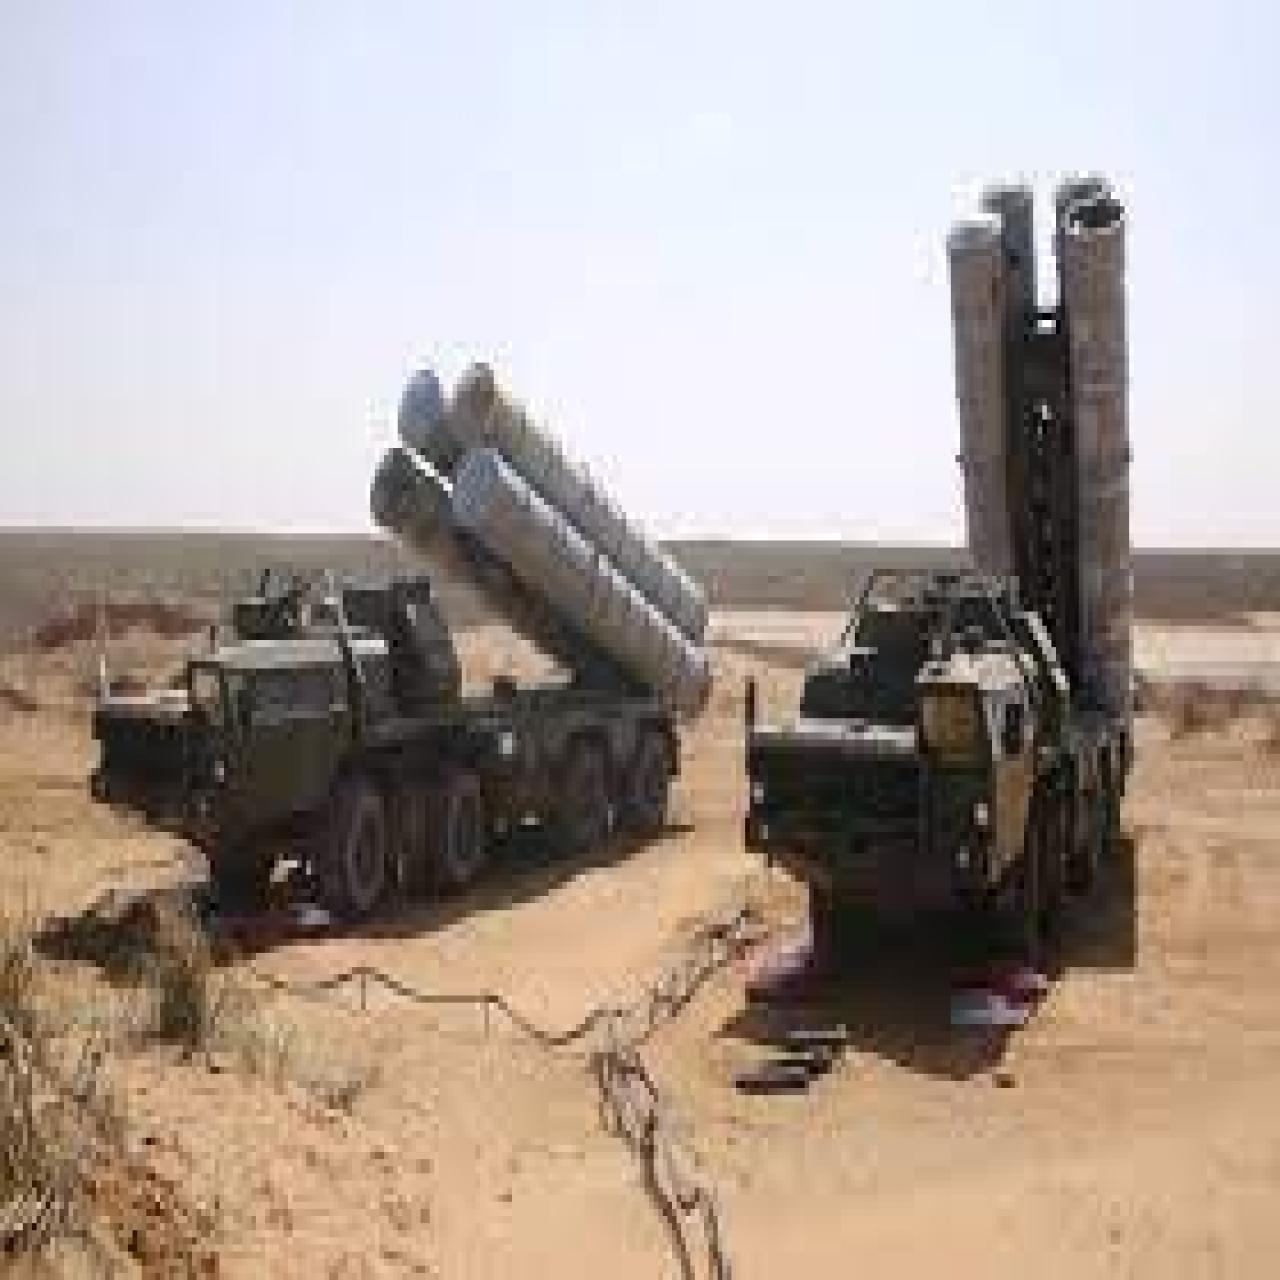MIL_Veh: (98, 361, 715, 926), (753, 175, 1141, 980)
